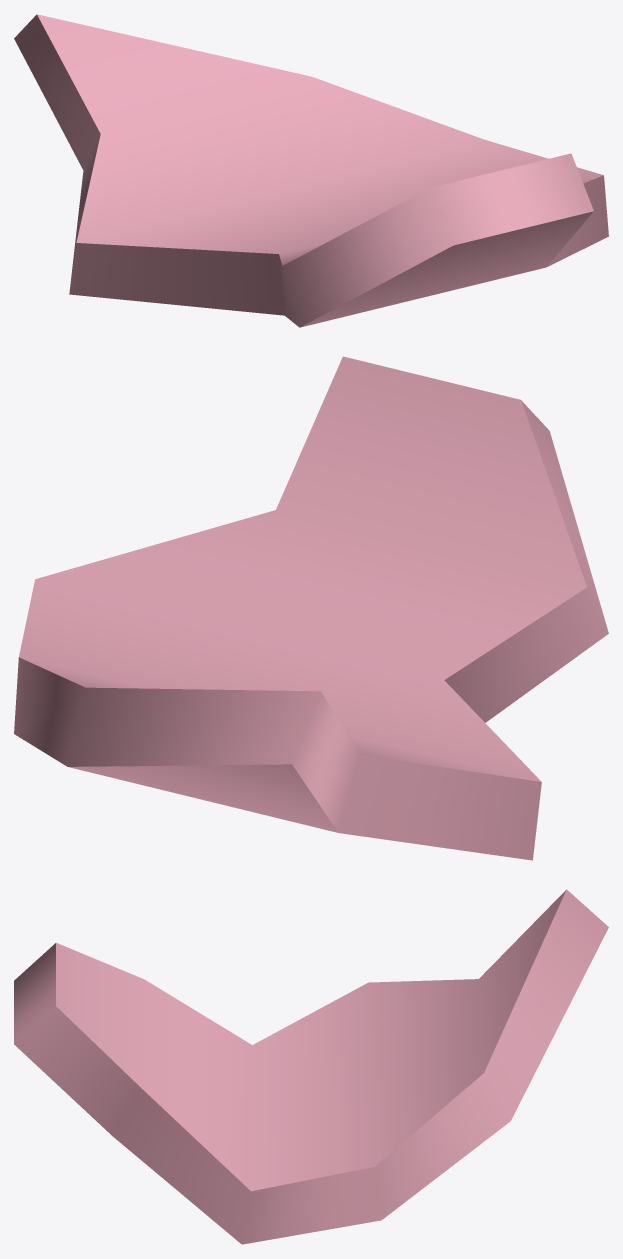
File: Bottle_Shard2.fbx
3 views of the same model, one above another, from view 1: azimuth 30°, elevation 25°; view 2: azimuth 150°, elevation 25°; view 3: azimuth 270°, elevation 25° (orthographic). The views are drawn at different scales.
Parts seen in each view (by area): view 1: Bottle_Shard2; view 2: Bottle_Shard2; view 3: Bottle_Shard2.
Part boxes in pixels (bbox=[...]): Bottle_Shard2: bbox=[14, 14, 608, 327]; Bottle_Shard2: bbox=[14, 356, 608, 860]; Bottle_Shard2: bbox=[14, 889, 608, 1244].
Bounding box in the file's own units: 8.33 × 3.27 × 9.99.
